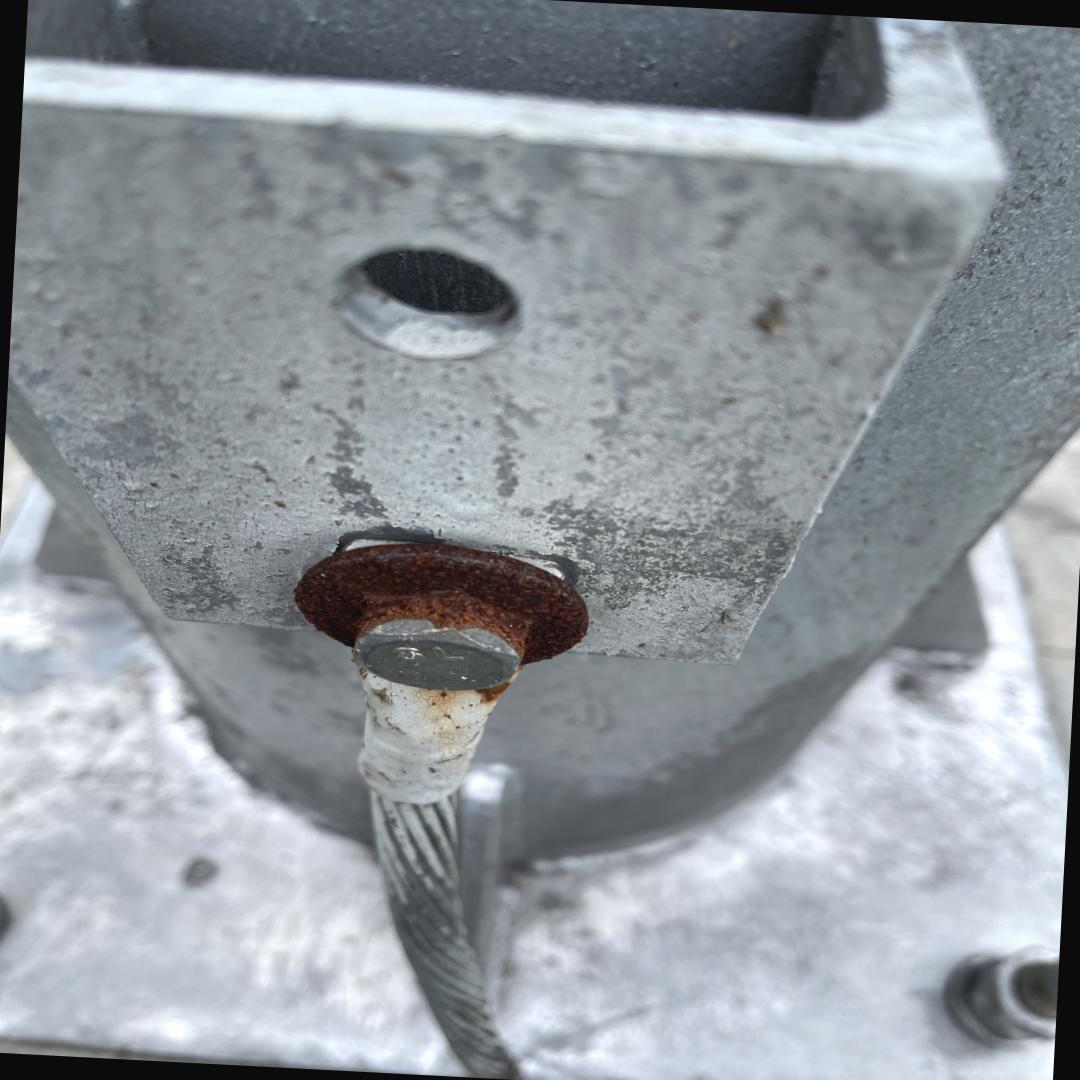Metal: (5, 0, 1080, 1080)
Metal corroido: (294, 540, 589, 679)
Tornillo sin corrosion: (353, 619, 521, 690)
